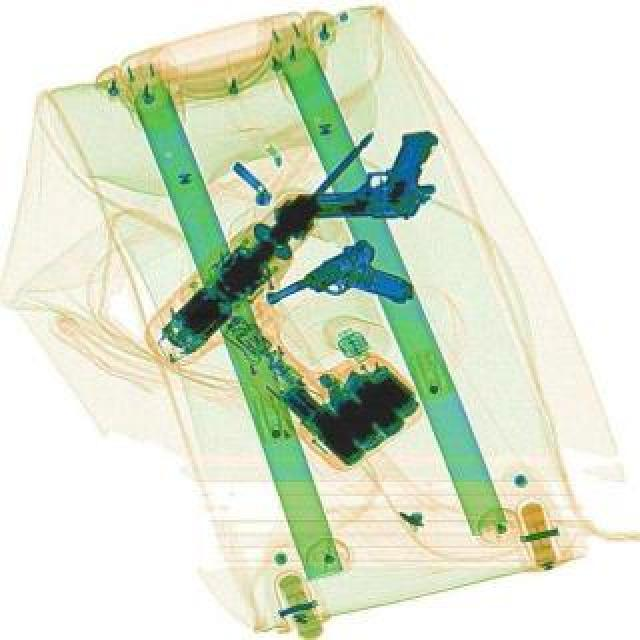gun: (258, 228, 418, 356), (290, 128, 438, 220)
